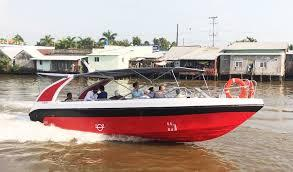Ship: (30, 68, 264, 143)
